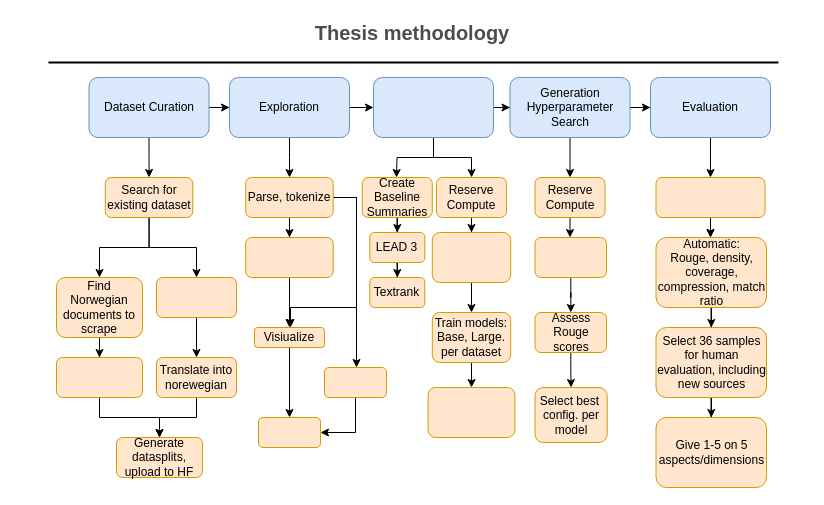
Some shapes in this 824 by 505 pixel diagram are drawn without their labels. Here are the shapes that lost their labels. From the top down, the centre of each, then its label:
At pixel 433 107: "Summarization Modeling".
At pixel 710 197: "Use best config. for inference on test split".
At pixel 289 257: "Aggregate".
At pixel 471 257: "Start docker, with trainer script".
At pixel 570 257: "Create config. space".
At pixel 196 297: "Find datasets in english".
At pixel 99 377: "Web scraping".
At pixel 355 382: "Inspect outliers".
At pixel 289 432: "Evaluate".
At pixel 471 412: "Save best model CP by validation".
